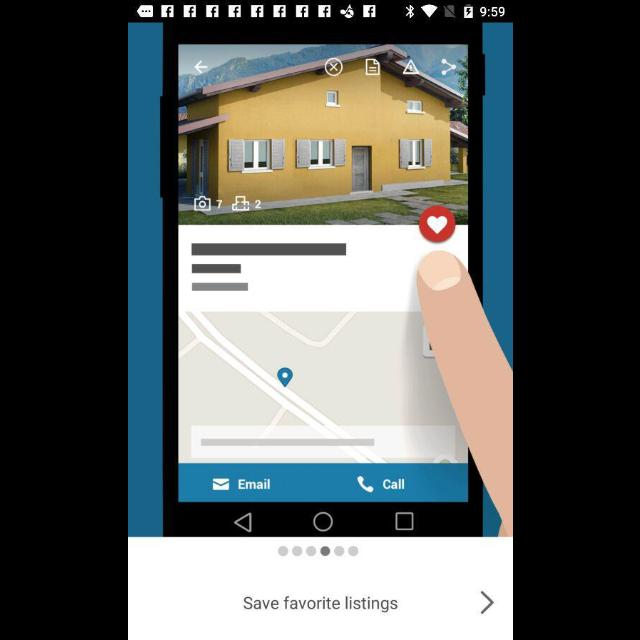icon: (479, 590, 493, 614)
image: (128, 24, 512, 536)
pageindicator: (277, 545, 359, 557)
text: (243, 595, 397, 613)
uppertaskbar: (128, 1, 512, 23)
